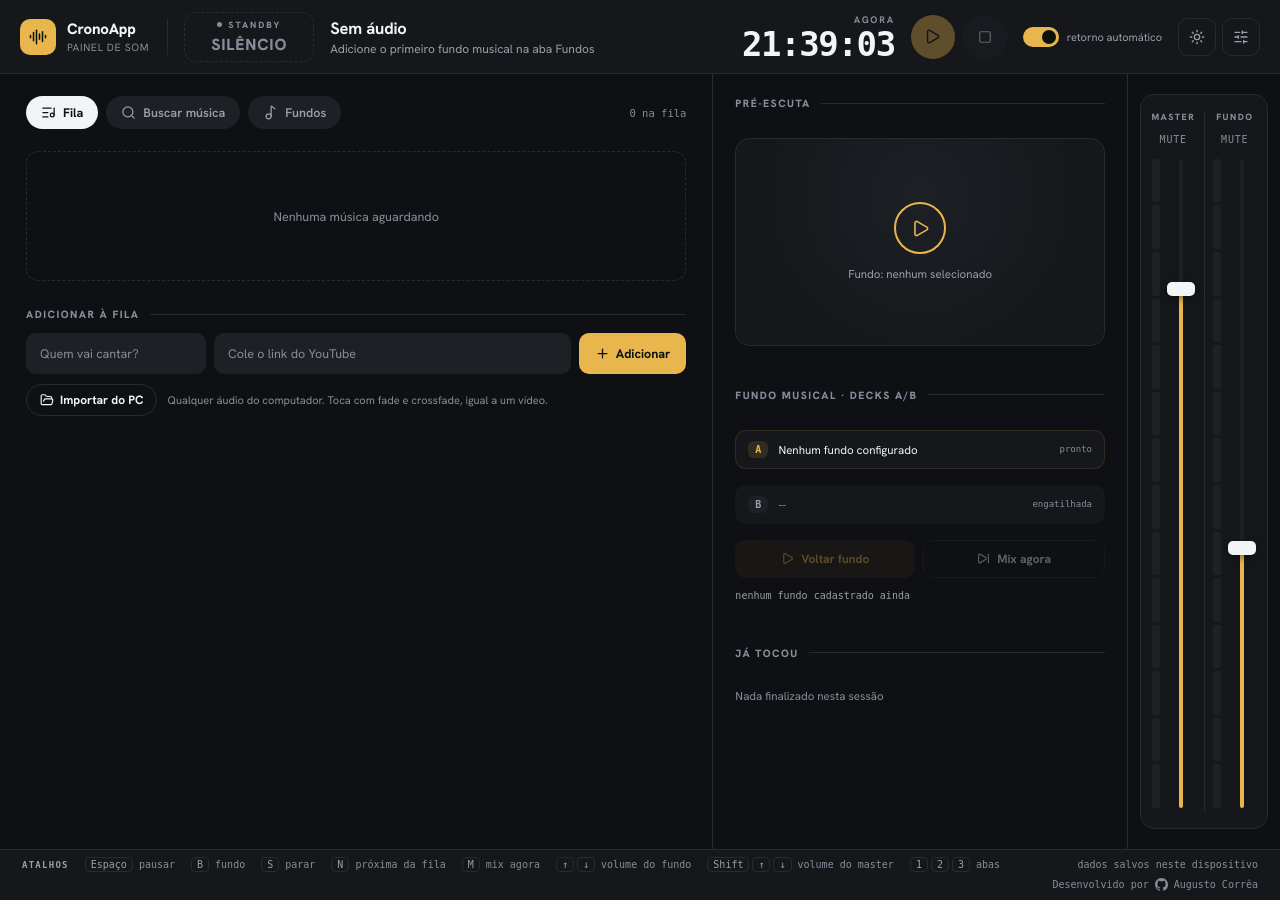
Test: a busca quando o backend ainda não existe (Etapa 5) › mostra o recado certo em vez de um erro de JSON
Step 1. Type keys "2"
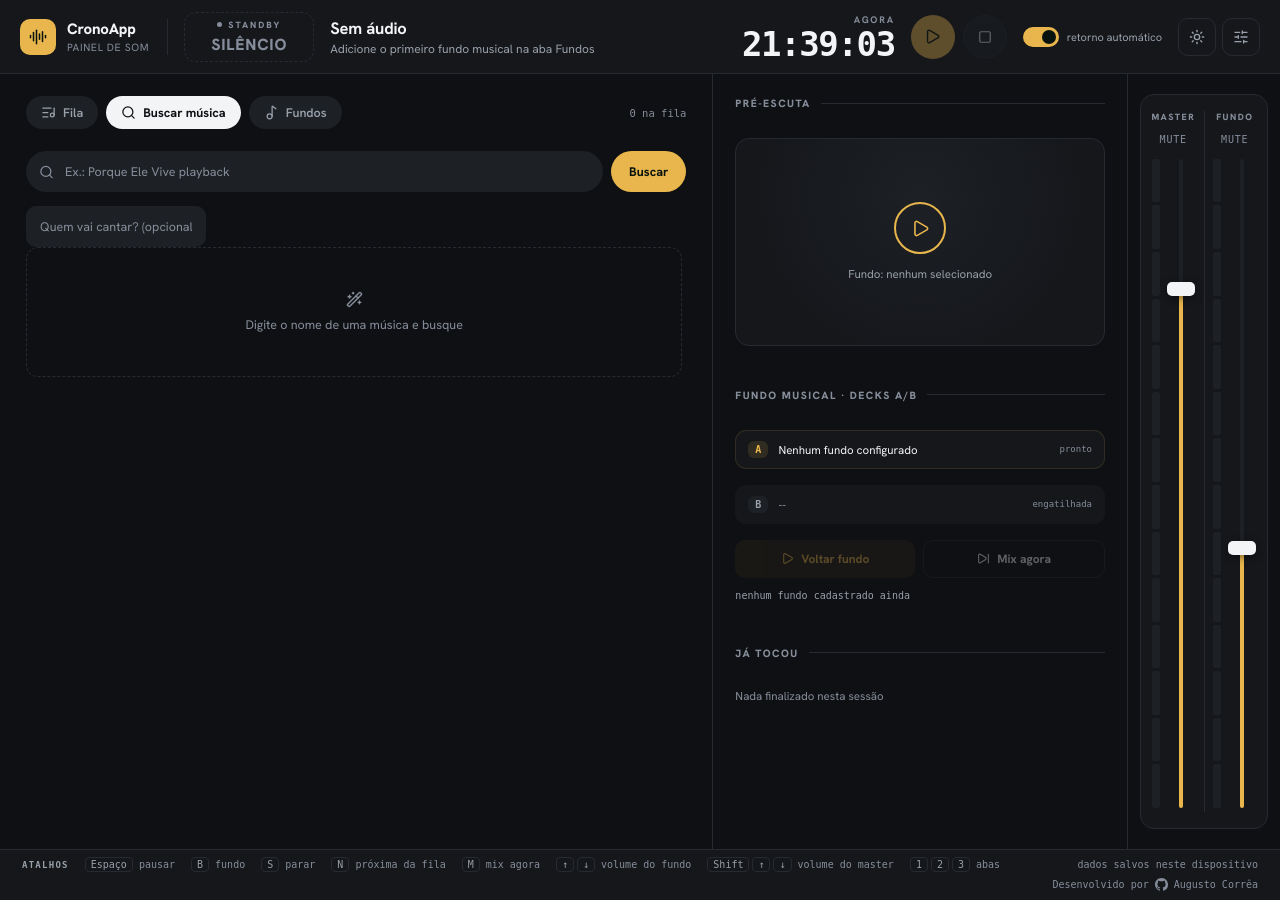
Step 2. Type "louvor" into the field named "Buscar música" → (315, 172), box [26,151,603,192]
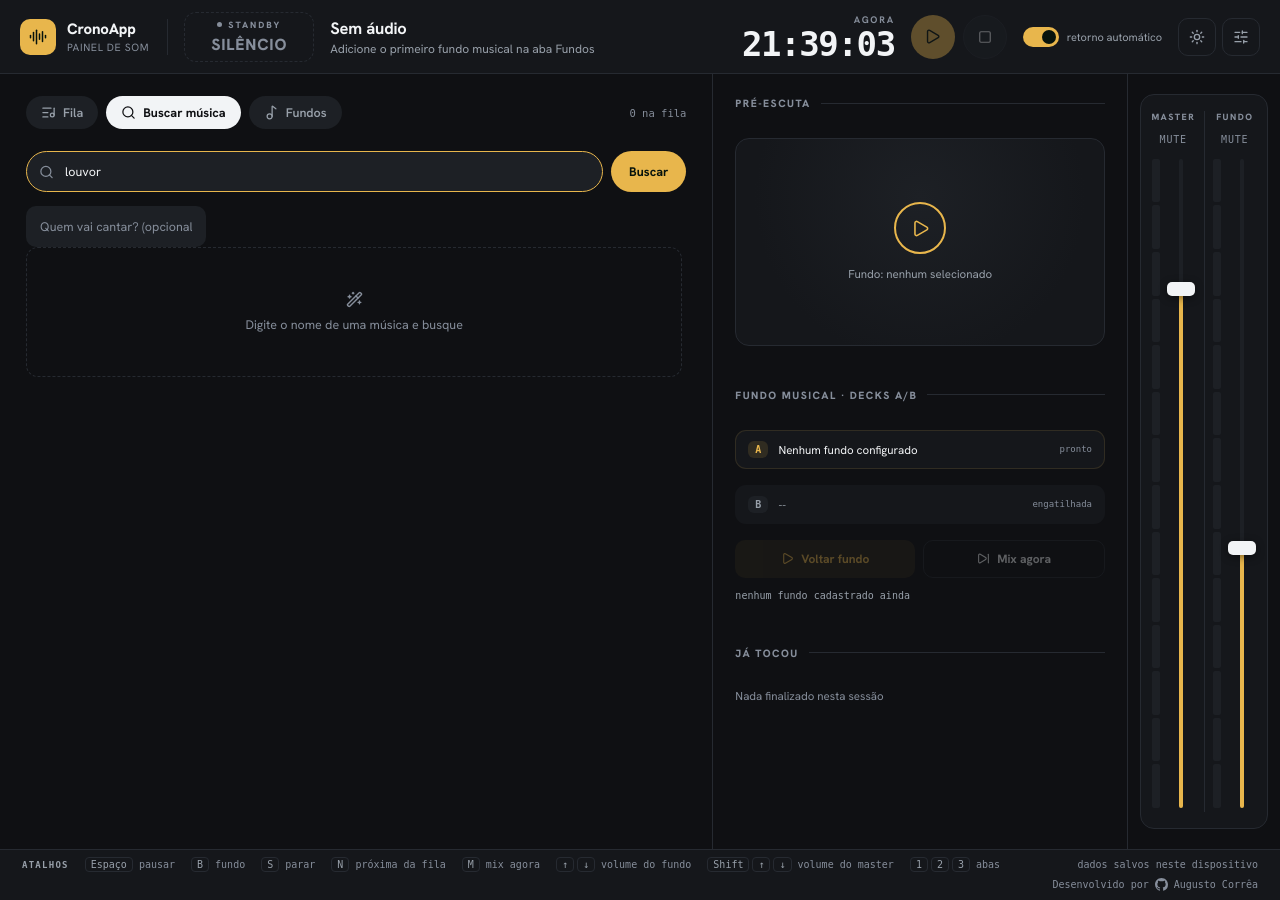
Step 3. Click the button "Buscar" → (649, 172), box [611,151,686,192]
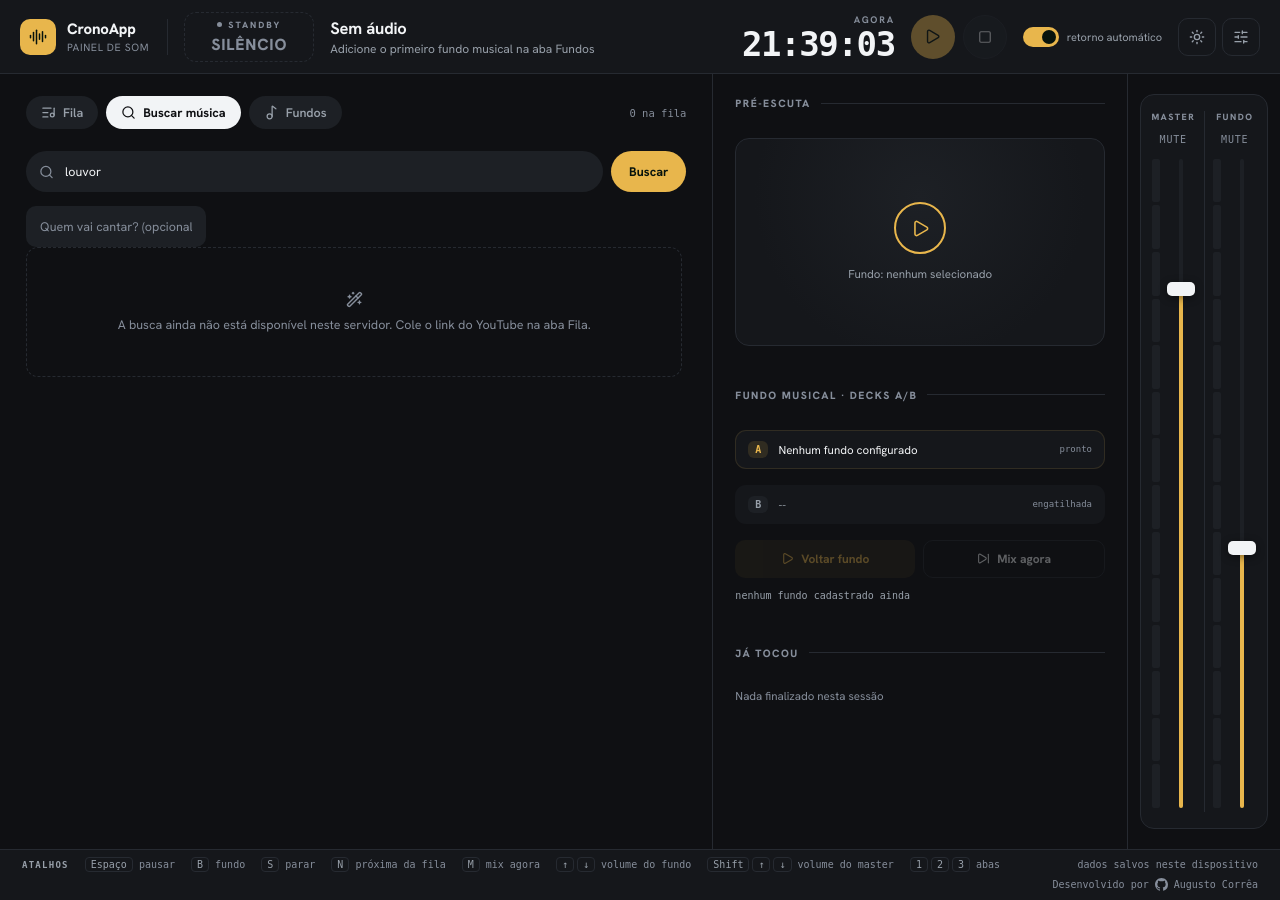
Expected: the message shows "Cole o link do YouTube na aba Fila", [118,316,591,333]
